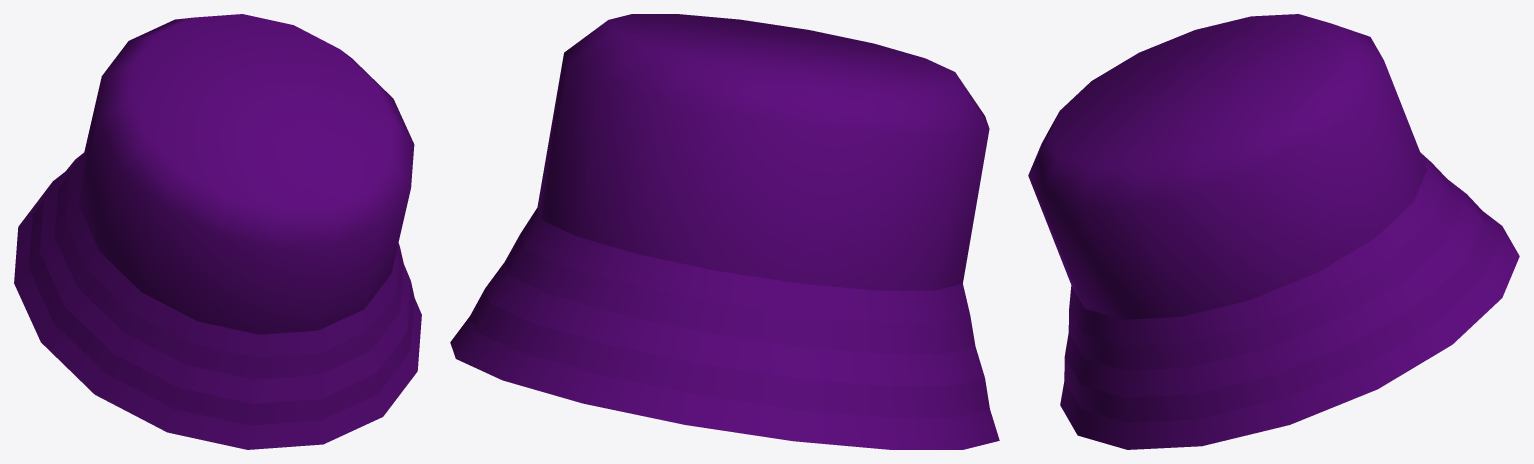
The model's file is sunhat_basic.sgm.obj.
3 views of the same model, side by side, from view 1: azimuth 30°, elevation 25°; view 2: azimuth 150°, elevation 25°; view 3: azimuth 270°, elevation 25° (orthographic). The views are drawn at different scales.
Visible parts, largest first — view 1: 0; view 2: 0; view 3: 0.
Part boxes in pixels (box(x1,y1,x2,y2)): 0: box(14, 14, 421, 449); 0: box(450, 14, 999, 449); 0: box(1028, 14, 1519, 449).
Bounding box in the file's own units: 0.4889 × 0.4386 × 0.539.
